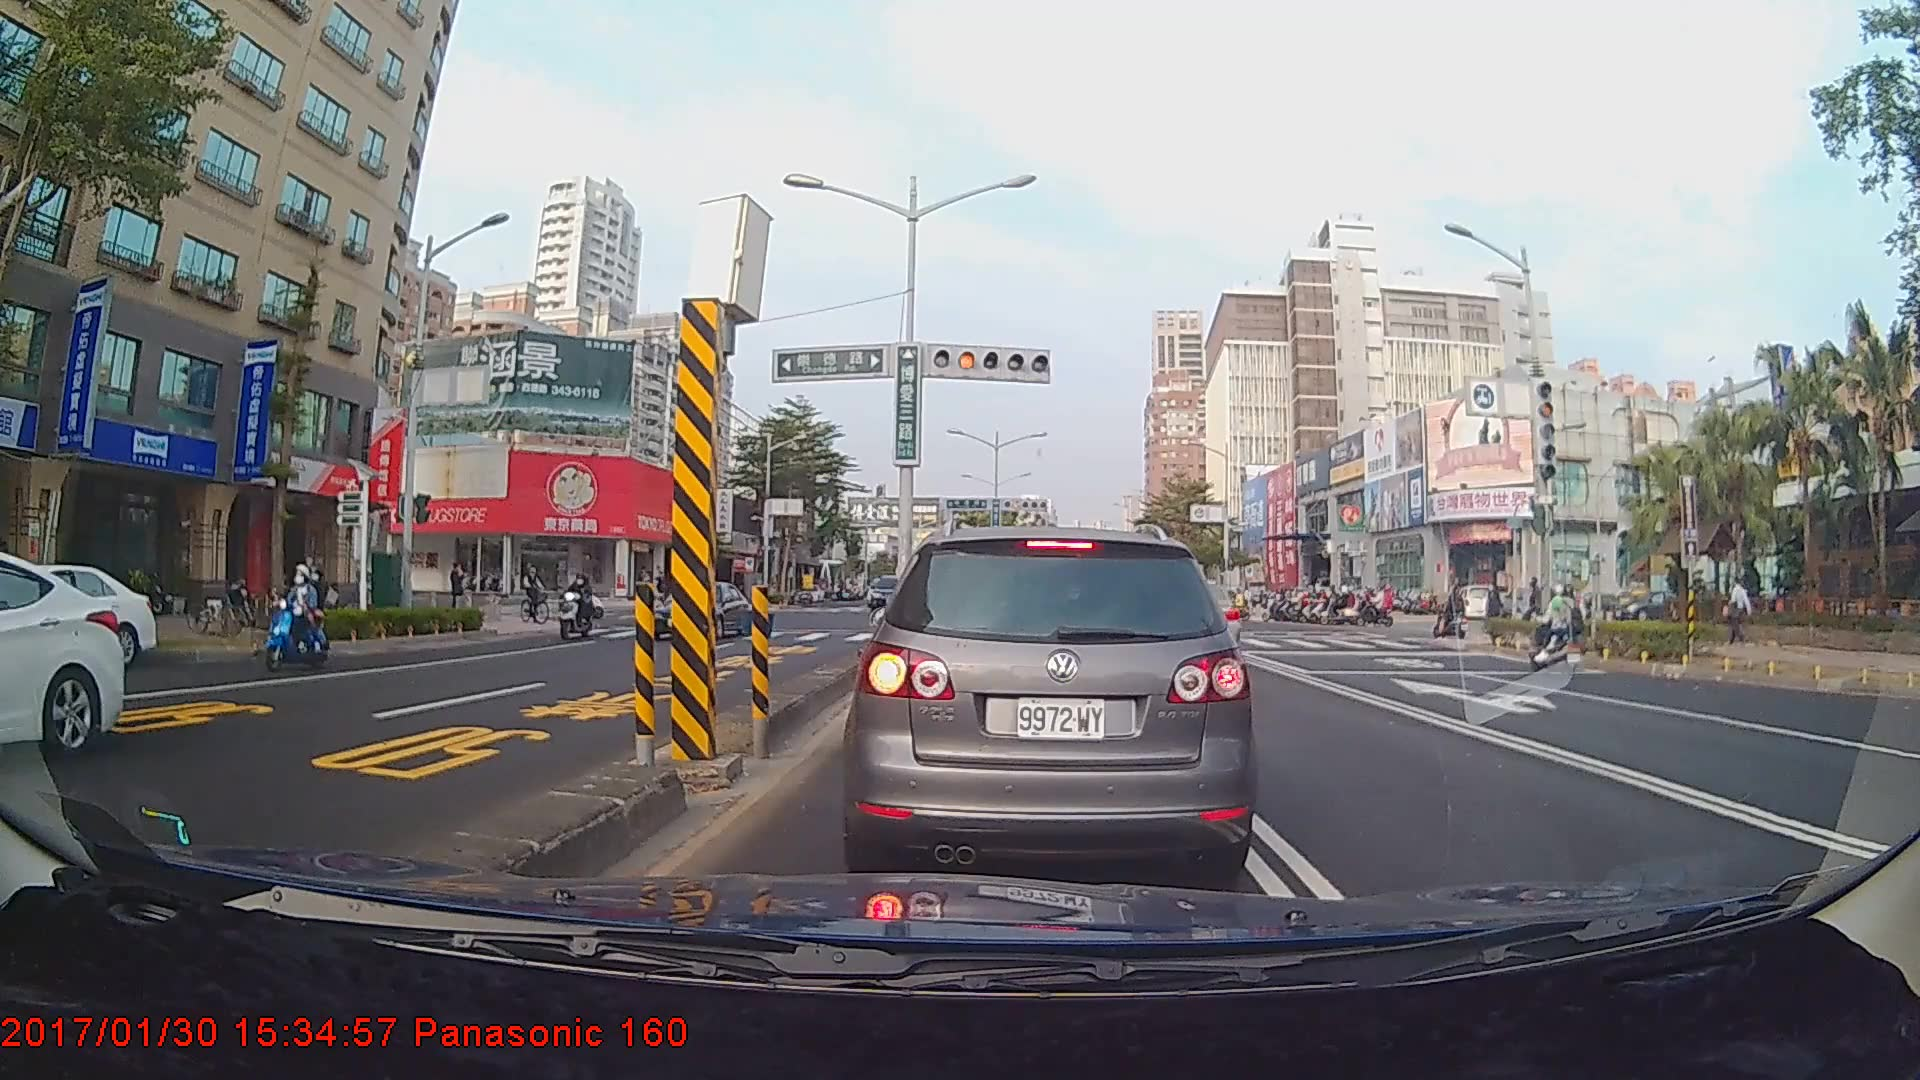pedestrian: (1725, 576, 1753, 646), (447, 563, 467, 620)
rider: (263, 566, 339, 672), (1529, 581, 1598, 677), (562, 565, 611, 644), (562, 566, 609, 619), (1435, 584, 1473, 640), (522, 566, 551, 627)
vehicle: (855, 504, 1252, 874), (0, 548, 125, 758), (0, 564, 158, 677), (646, 580, 752, 640), (868, 574, 907, 609)
